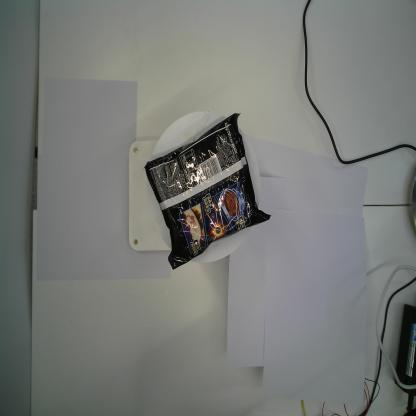Instant Noodles: (142, 113, 272, 271)
